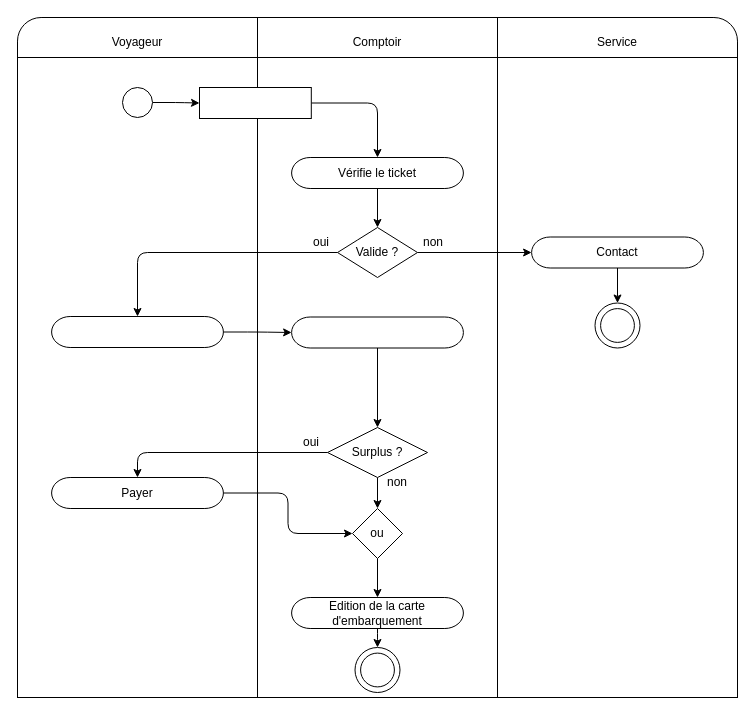
Image size: 755x715. Some labels were removed from this diagram. The box of each missing label's shape, as (x1, y1, x2, y2) in pixels:
Enrengistre ses bagages: (51, 316, 223, 348)
Montre le ticket: (198, 86, 311, 118)
Vérifie le poids: (291, 316, 463, 348)
